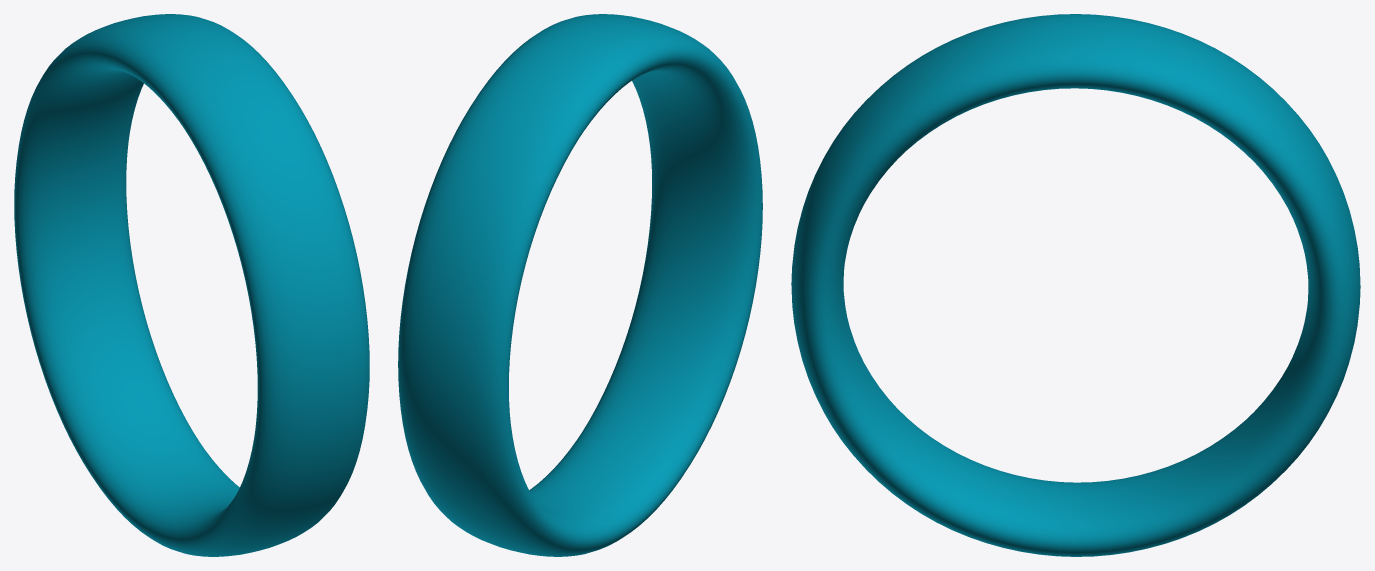
The model's file is Rim.FBX.
The picture shows the model from 3 angles, left to right: view 1: azimuth 30°, elevation 25°; view 2: azimuth 150°, elevation 25°; view 3: azimuth 270°, elevation 25°; orthographic projection. The views are drawn at different scales.
Parts seen in each view (by area): view 1: Object025; view 2: Object025; view 3: Object025.
Boxes of the visible parts, <box> form: Object025: <box>14,14,369,556</box>; Object025: <box>398,14,762,556</box>; Object025: <box>791,14,1360,556</box>.
Size of the model in its own units: 3.54 by 14.82 by 14.82.
